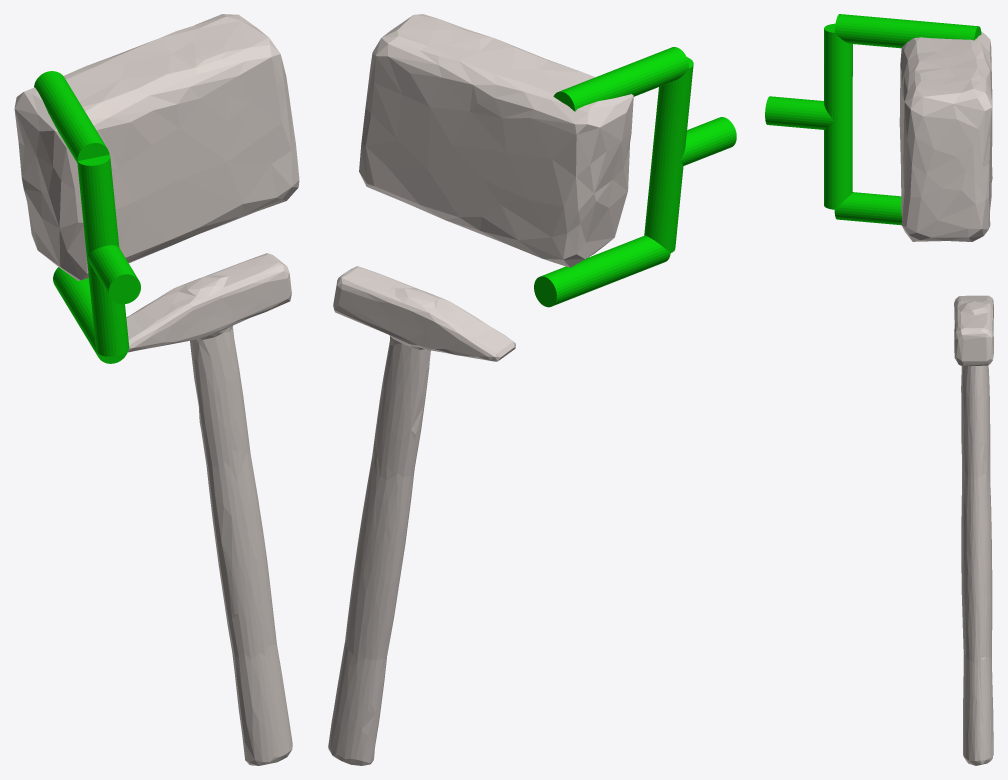
File: round_000_trial_004.obj
3 views of the same model, side by side, from view 1: azimuth 30°, elevation 25°; view 2: azimuth 150°, elevation 25°; view 3: azimuth 270°, elevation 25° (orthographic). The views are drawn at different scales.
Parts seen in each view (by area): view 1: geometry_0, geometry_1; view 2: geometry_0, geometry_1; view 3: geometry_0, geometry_1.
Boxes of the visible parts, left/top/right/bottom form: geometry_0: left=14, top=14, right=299, bottom=765; geometry_1: left=34, top=71, right=140, bottom=363; geometry_0: left=328, top=14, right=633, bottom=765; geometry_1: left=534, top=47, right=736, bottom=307; geometry_0: left=899, top=32, right=993, bottom=765; geometry_1: left=765, top=14, right=981, bottom=225.
Bounding box in the file's own units: 0.1043 × 0.2506 × 0.0794.
